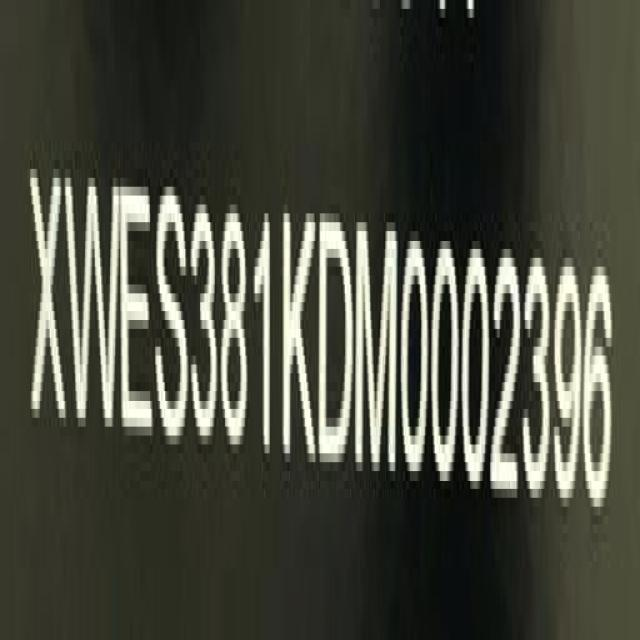0: (401, 222, 432, 484), (431, 231, 461, 488), (463, 241, 491, 494)
1: (254, 202, 278, 466)
2: (492, 251, 523, 507)
3: (192, 193, 222, 454), (524, 251, 552, 509)
6: (586, 259, 616, 515)
8: (220, 201, 250, 455)
9: (554, 254, 582, 511)
D: (319, 203, 354, 478)
E: (119, 170, 153, 446)
K: (281, 191, 320, 467)
M: (356, 207, 401, 481)
S: (154, 178, 190, 454)
W: (66, 162, 120, 444)
X: (30, 154, 66, 442)
